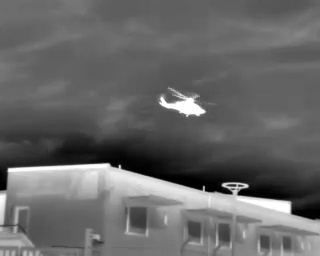HELICOPTER: (156, 83, 219, 124)
